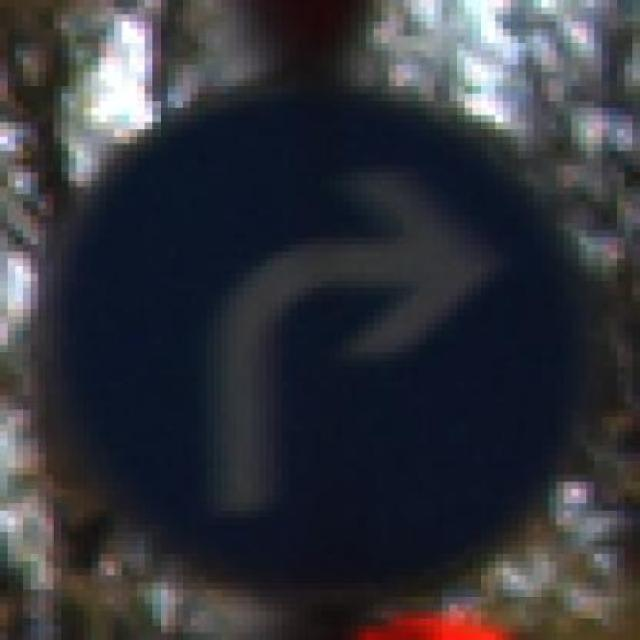Turn right ahead: (45, 64, 587, 618)
